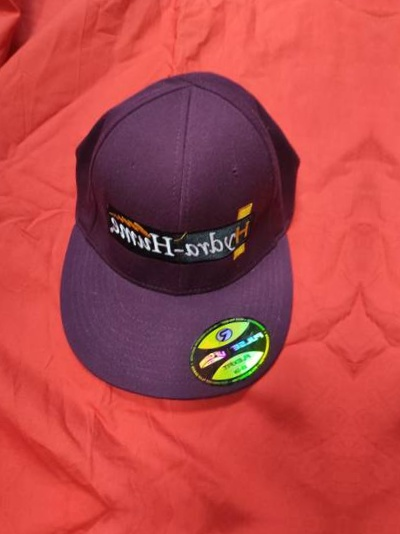Hat: (23, 30, 346, 439), (382, 56, 400, 465)
